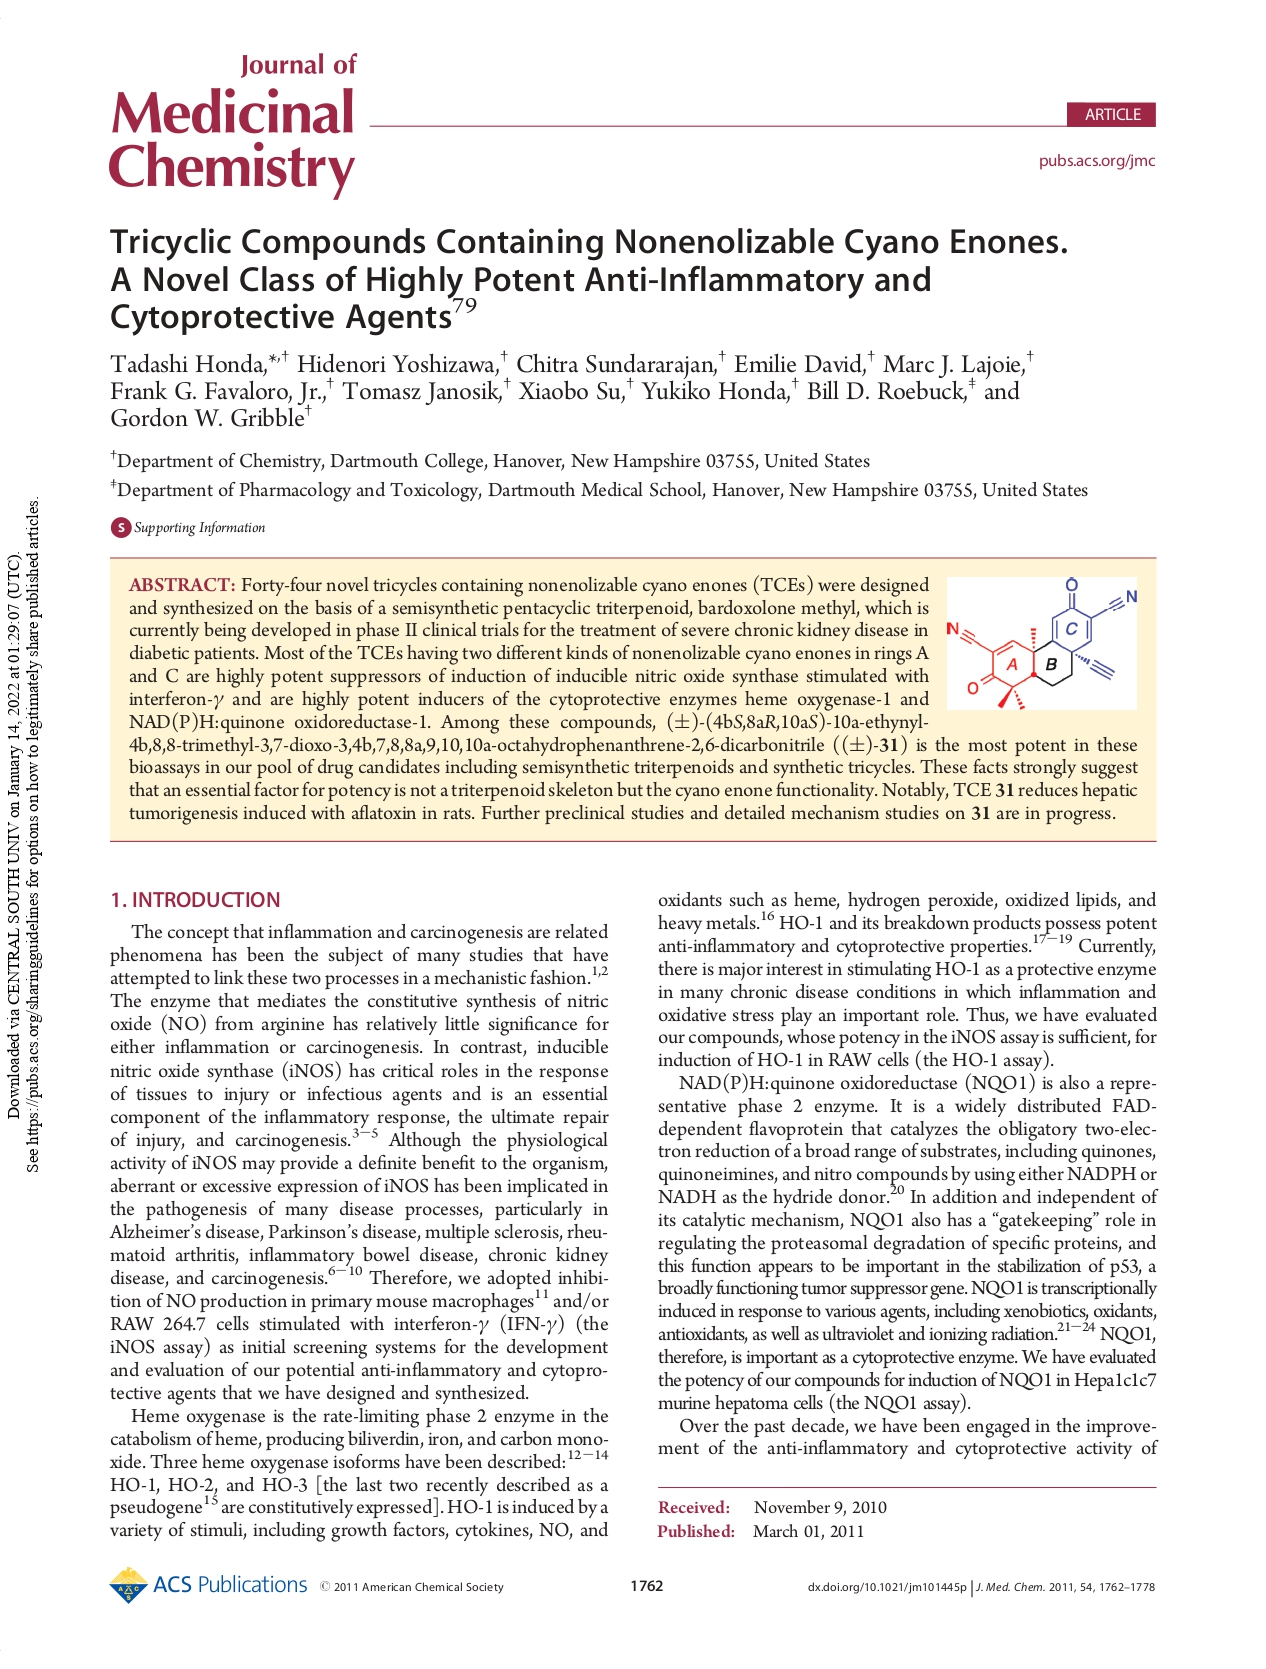exist_molecular: (946, 577, 1140, 710)
